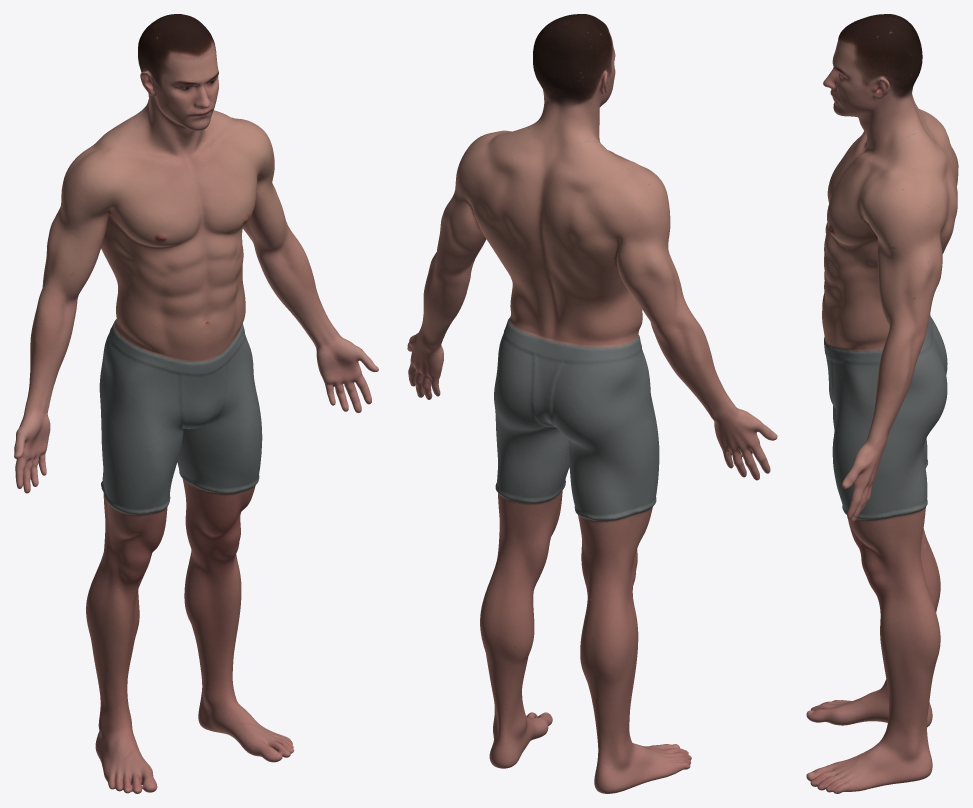
The model's file is body_m.glb.
The picture shows the model from 3 angles, left to right: view 1: azimuth 30°, elevation 25°; view 2: azimuth 150°, elevation 25°; view 3: azimuth 270°, elevation 25°; orthographic projection.
Parts seen in each view (by area): view 1: Mesh_0; view 2: Mesh_0; view 3: Mesh_0.
Part boxes in pixels (x1,y1,x2,y2): Mesh_0: (14, 14, 378, 793); Mesh_0: (407, 14, 777, 793); Mesh_0: (806, 14, 958, 793).
Size of the model in its own units: 0.9832 by 1.9 by 0.356.
1 material, 1 textured.
